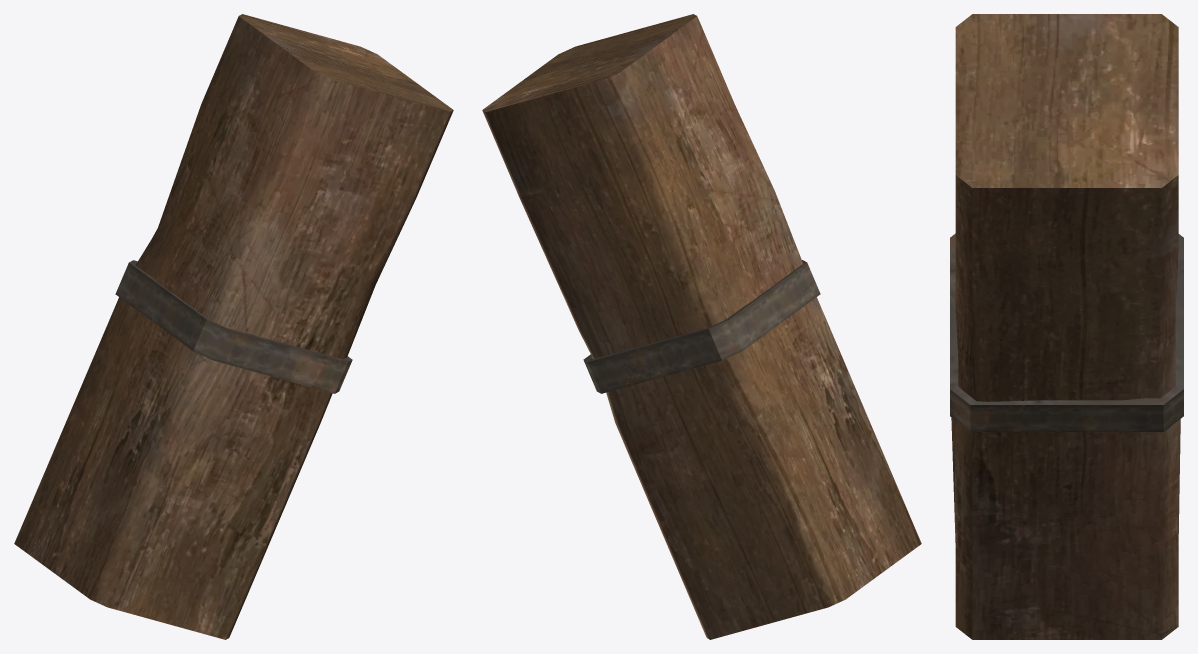
3 views of the same model, side by side, from view 1: azimuth 30°, elevation 25°; view 2: azimuth 150°, elevation 25°; view 3: azimuth 270°, elevation 25° (orthographic). The views are drawn at different scales.
Visible parts, largest first — view 1: SM_BB_T3_Extended_Beam_Thick_Med_Steep_LOD0; view 2: SM_BB_T3_Extended_Beam_Thick_Med_Steep_LOD0; view 3: SM_BB_T3_Extended_Beam_Thick_Med_Steep_LOD0.
Part boxes in pixels (left/top/right/bottom): SM_BB_T3_Extended_Beam_Thick_Med_Steep_LOD0: left=14, top=14, right=453, bottom=639; SM_BB_T3_Extended_Beam_Thick_Med_Steep_LOD0: left=482, top=14, right=921, bottom=639; SM_BB_T3_Extended_Beam_Thick_Med_Steep_LOD0: left=950, top=14, right=1183, bottom=639.
Size of the model in its own units: 1.22 by 1.75 by 0.5477.
Materials: 2 (2 with a texture image).
